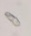microplastic: (5, 11, 20, 27)
